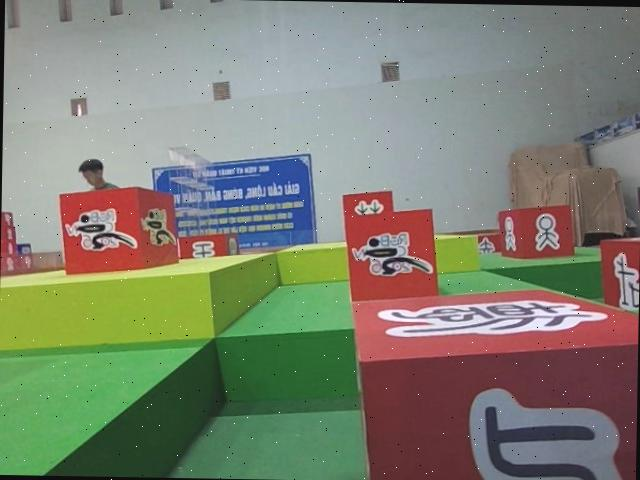R1: (57, 180, 178, 284), (344, 205, 438, 302)
R2 Fake: (350, 285, 639, 480)
R2 Real: (497, 204, 578, 261), (597, 234, 640, 311)
